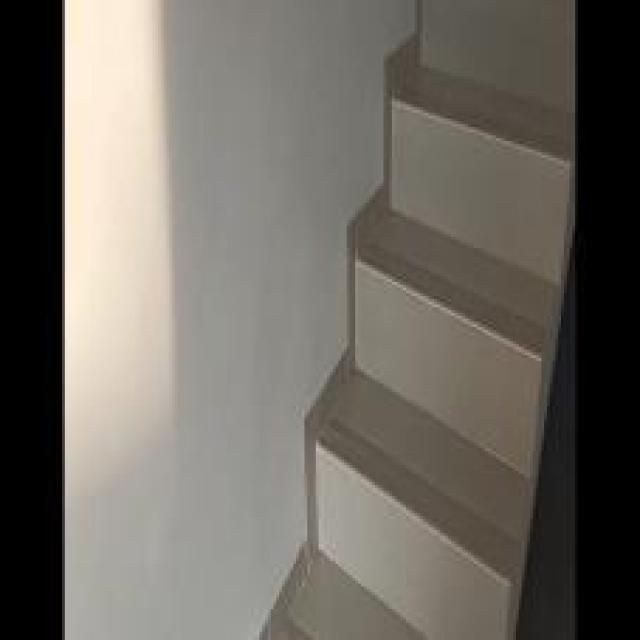upstair: (289, 44, 574, 605)
